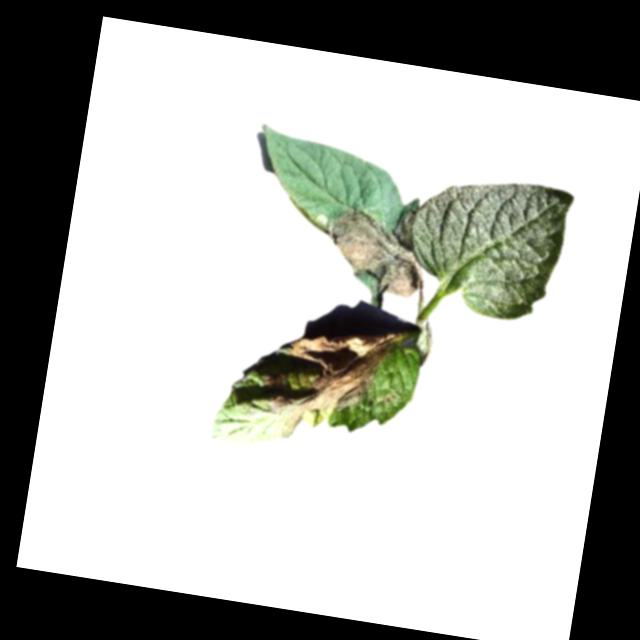Late_blight: (249, 311, 407, 454), (319, 203, 431, 300)
